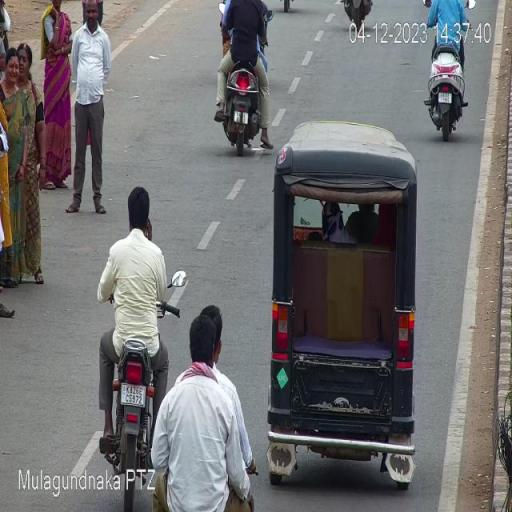using mobile: (143, 214, 156, 240)
